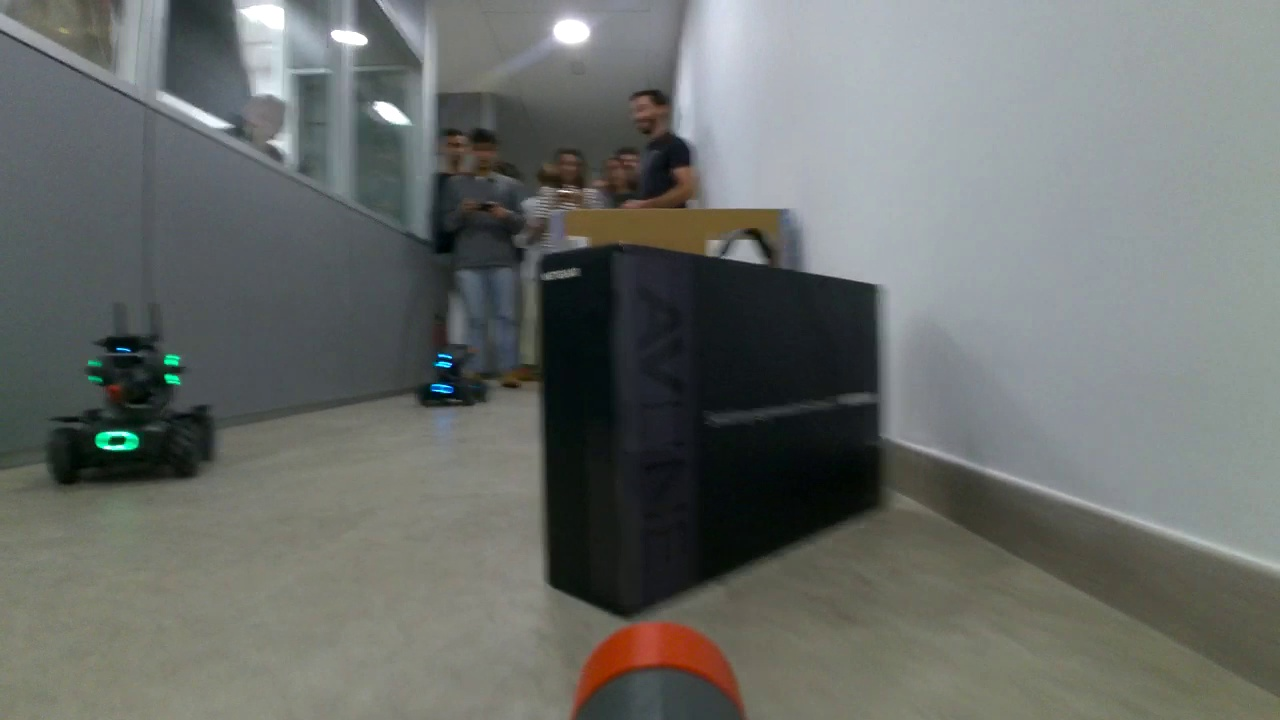robot: (42, 330, 215, 490), (415, 343, 494, 411)
